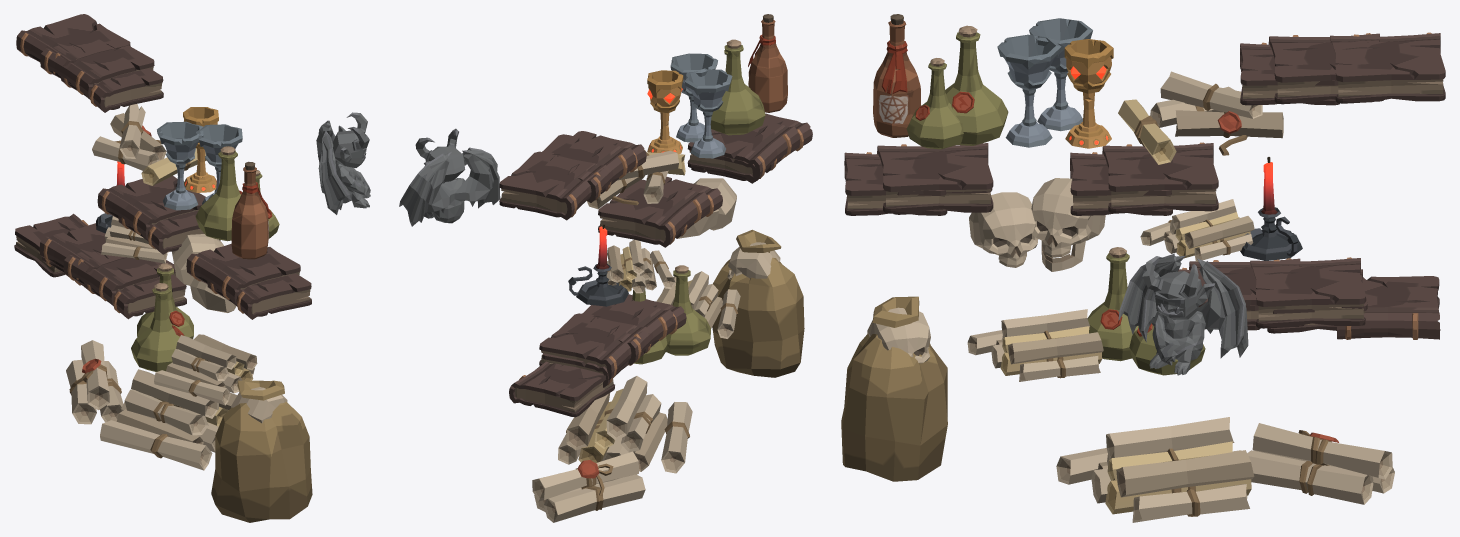
The model's file is crypt_shelf.gltf.
The picture shows the model from 3 angles, left to right: view 1: azimuth 30°, elevation 25°; view 2: azimuth 150°, elevation 25°; view 3: azimuth 270°, elevation 25°; orthographic projection. The views are drawn at different scales.
Visible parts, largest first — view 1: crypt_shelf; view 2: crypt_shelf; view 3: crypt_shelf.
Part boxes in pixels (x1,y1,x2,y2): crypt_shelf: (14, 14, 370, 522); crypt_shelf: (399, 14, 812, 522); crypt_shelf: (841, 14, 1445, 522).
Size of the model in its own units: 1.39 by 1.81 by 2.14.
1 material, 1 textured.
